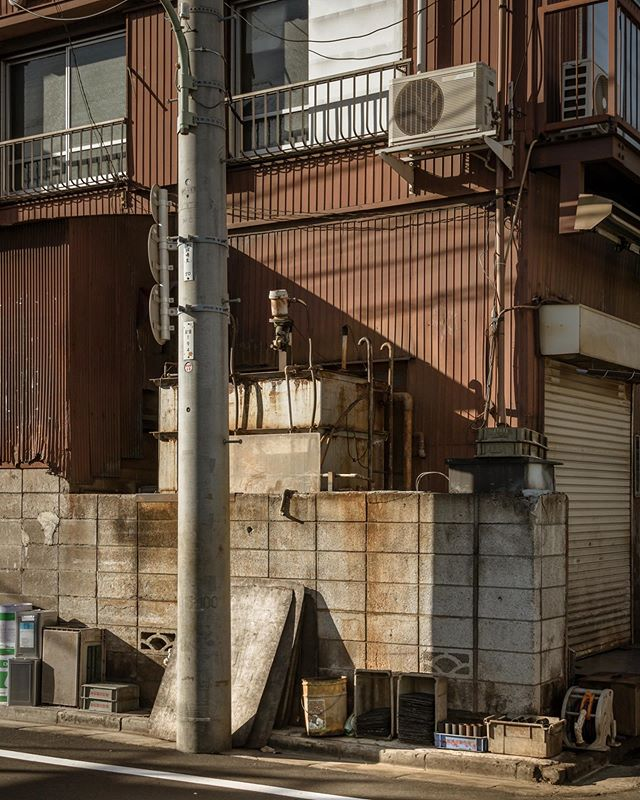building: (1, 1, 640, 747)
